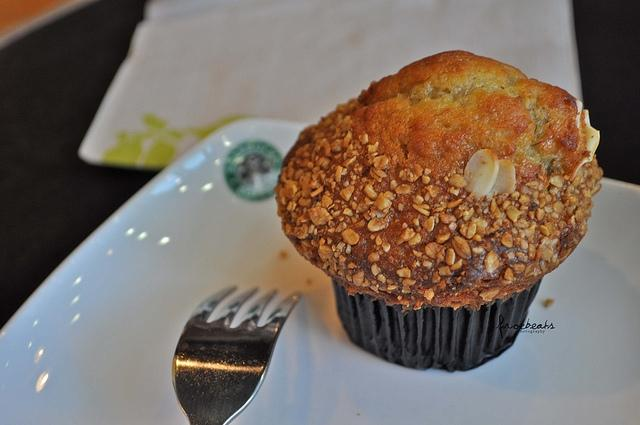almond: (464, 148, 499, 200), (575, 109, 600, 174), (486, 158, 516, 202)
